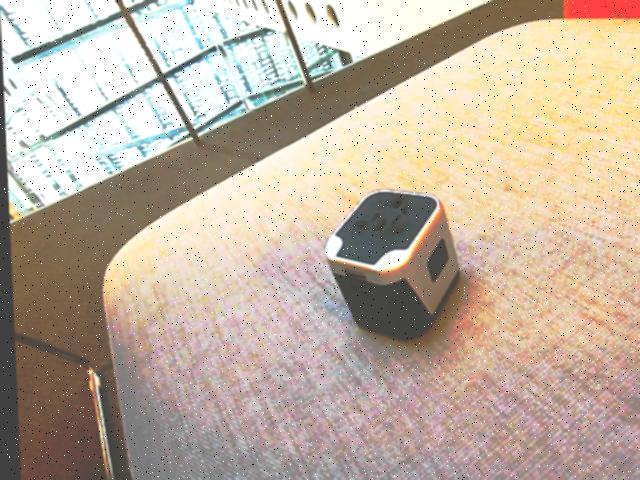adapter: (319, 188, 459, 340)
